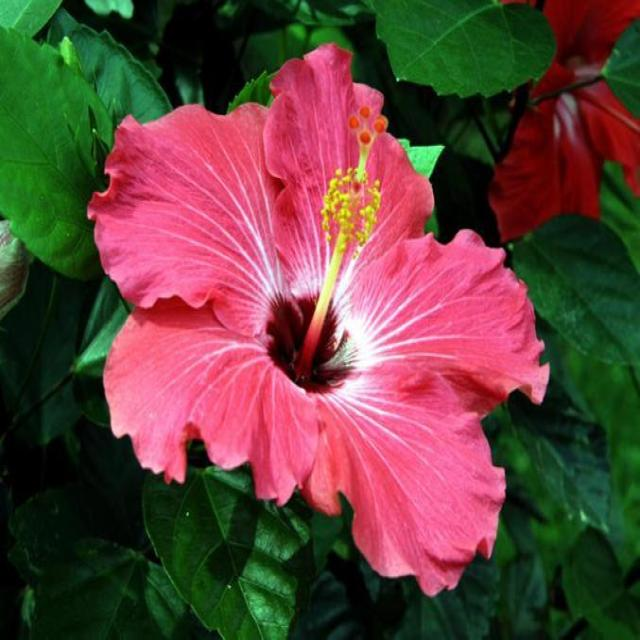hibiscus: (82, 27, 606, 587)
